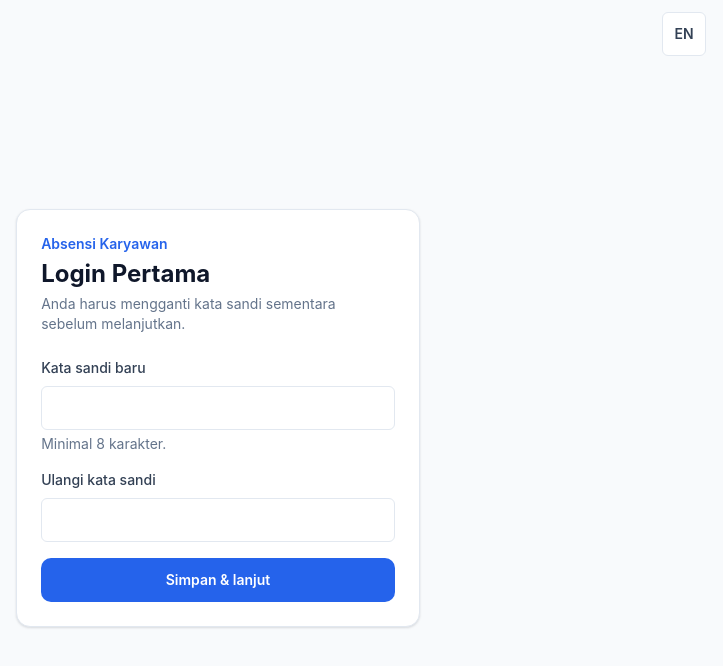
FirstLoginPage › blocks submission with the mismatch copy when the passwords differ
Type "first-password" into the password field labelled "Kata sandi baru" at (218, 408), box [41,386,395,430]
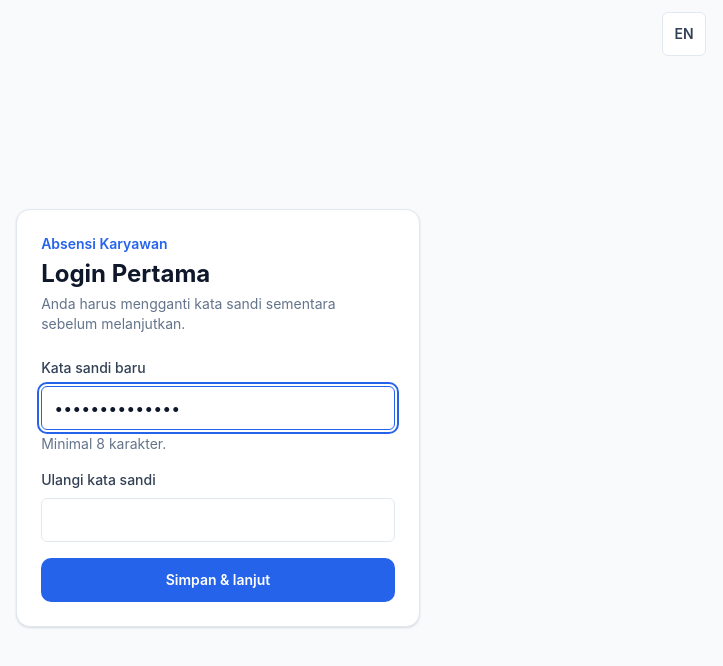
Type "other-password" into the password field labelled "Ulangi kata sandi" at (218, 520), box [41,498,395,542]
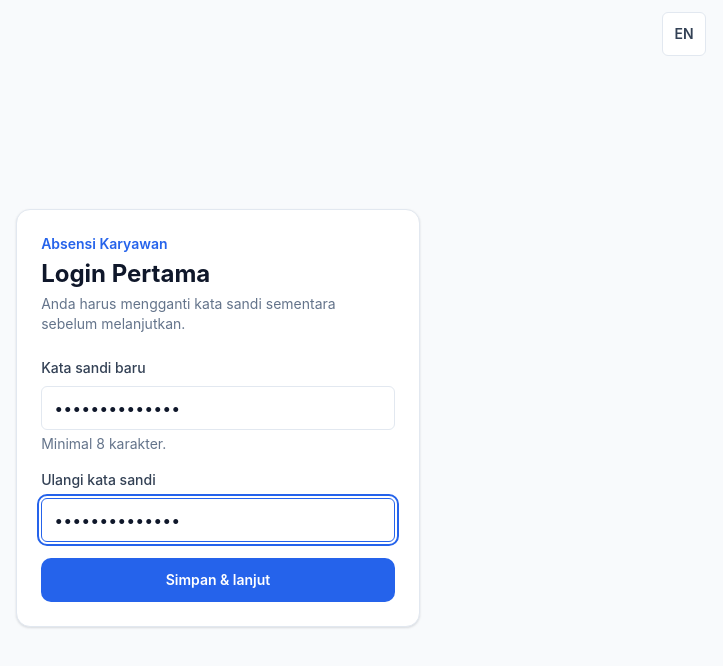
Click the button "Simpan & lanjut" at (218, 580), box [41,558,395,602]
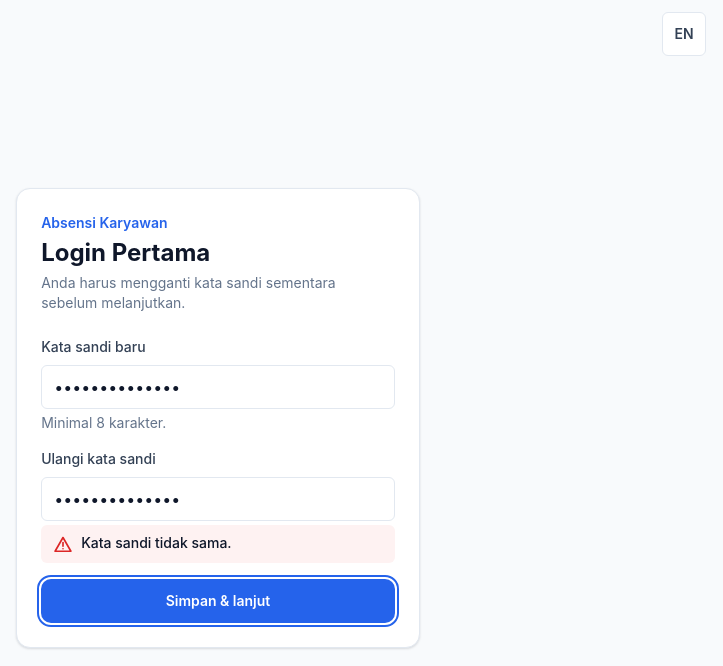
Result: the message with test id "first-login-error" reads "Kata sandi tidak sama." at [81,534,232,551]
